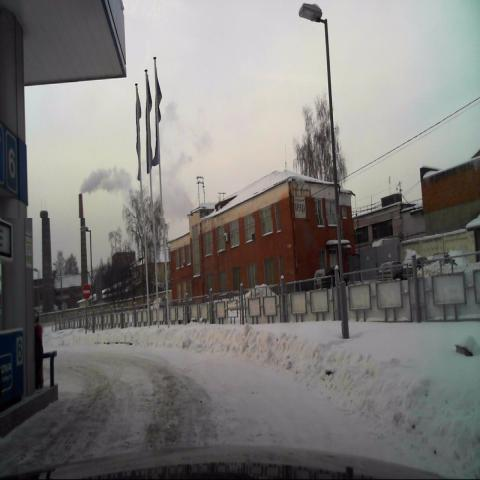3_1: (82, 283, 91, 300)
